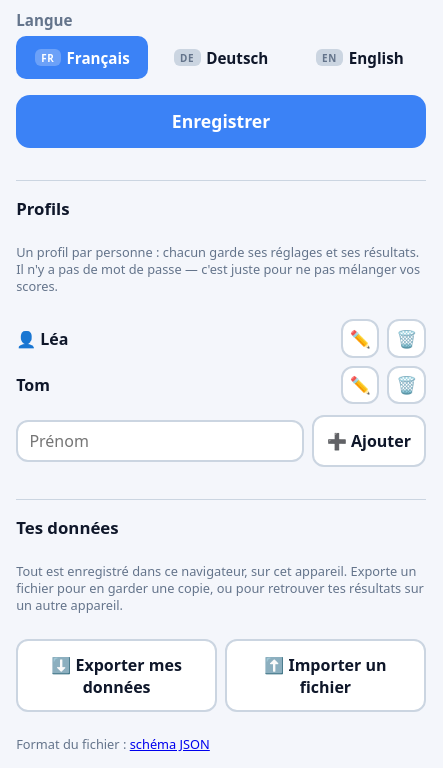
Scenario: renaming › refuses a name another profile already uses
(page scrolled)
Click the button named "renommer Tom" at (360, 385), box [341,366,379,404]
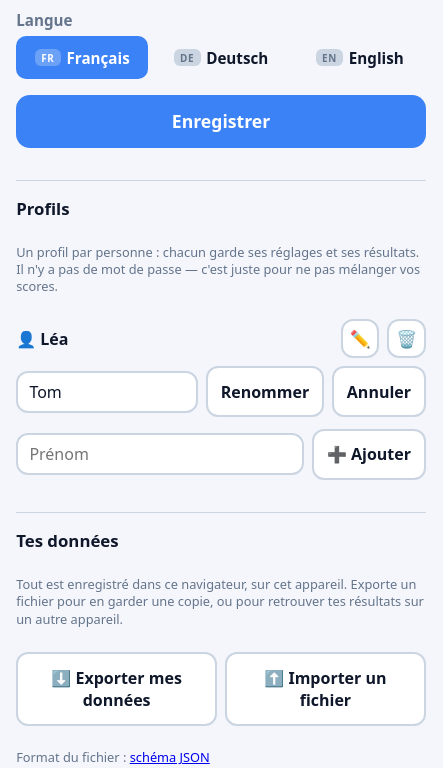
Replace the text in the field named "renommer Tom" with "Léa" at (107, 392), box [16,371,198,413]
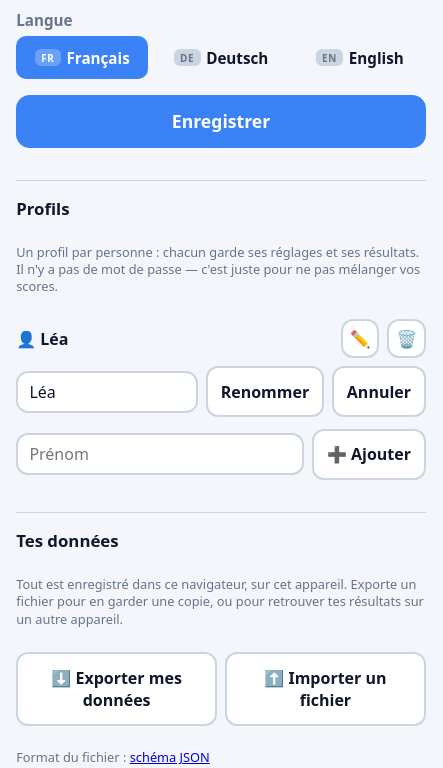
Click the button "Renommer" at (265, 392), box [206,366,324,417]
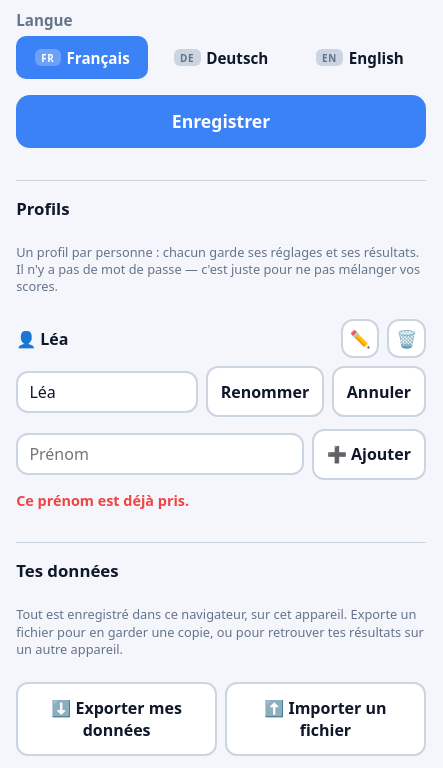
Now the message shows "déjà pris", box [16,491,189,510]
